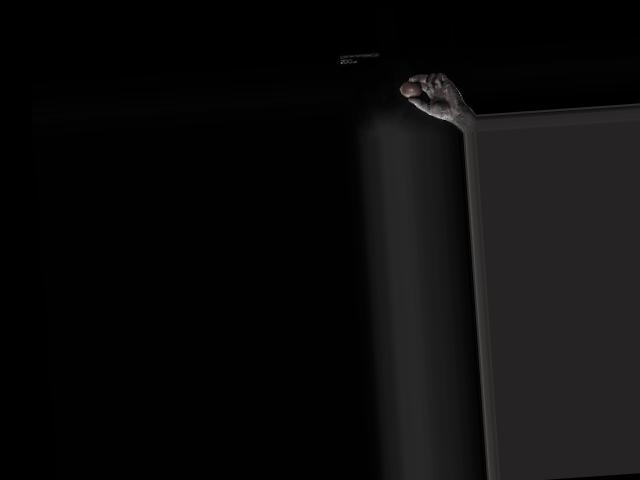egg: (400, 80, 423, 98)
